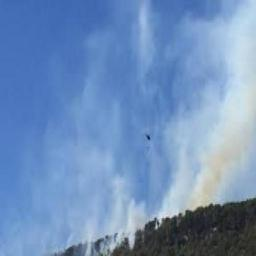Low smoke: (43, 172, 149, 251), (173, 119, 237, 216), (196, 17, 256, 118)
